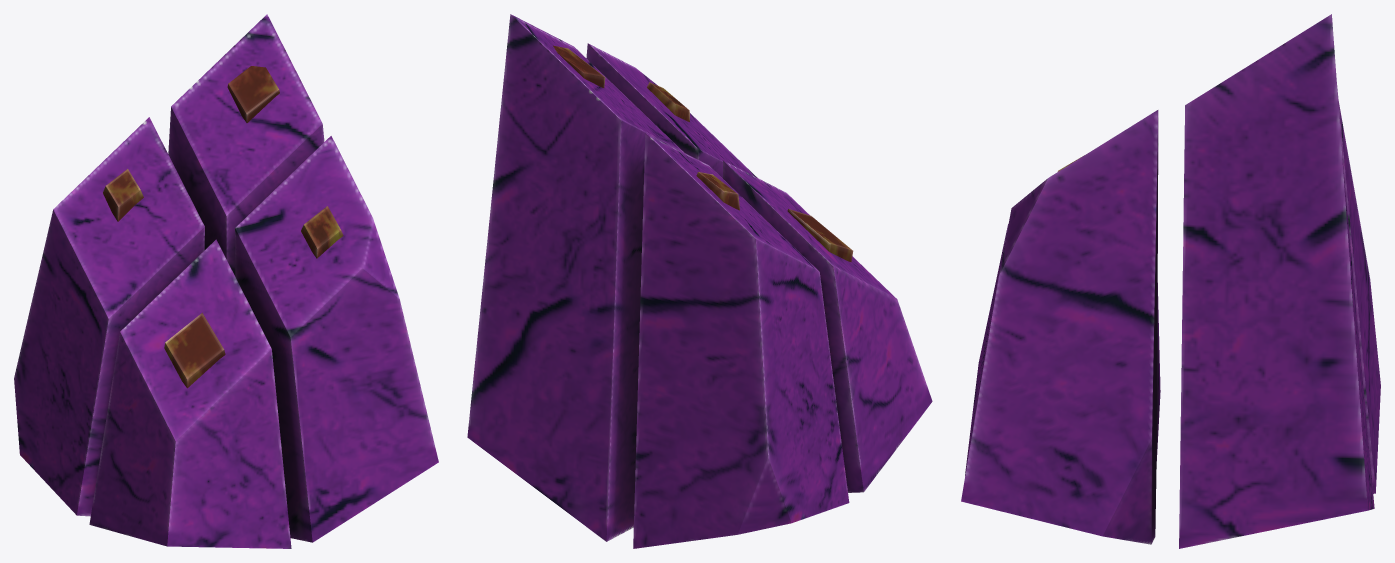
Rendered from HypnoLOD3Top.fbx.
3 views of the same model, side by side, from view 1: azimuth 30°, elevation 25°; view 2: azimuth 150°, elevation 25°; view 3: azimuth 270°, elevation 25° (orthographic). The views are drawn at different scales.
Parts seen in each view (by area): view 1: HypnoLOD3; view 2: HypnoLOD3; view 3: HypnoLOD3.
Part boxes in pixels (<box>): HypnoLOD3: <box>14,14,438,548</box>; HypnoLOD3: <box>467,14,932,548</box>; HypnoLOD3: <box>961,14,1380,548</box>.
Bounding box in the file's own units: 2.17 × 3.26 × 2.15.
Materials: 1 (1 with a texture image).
